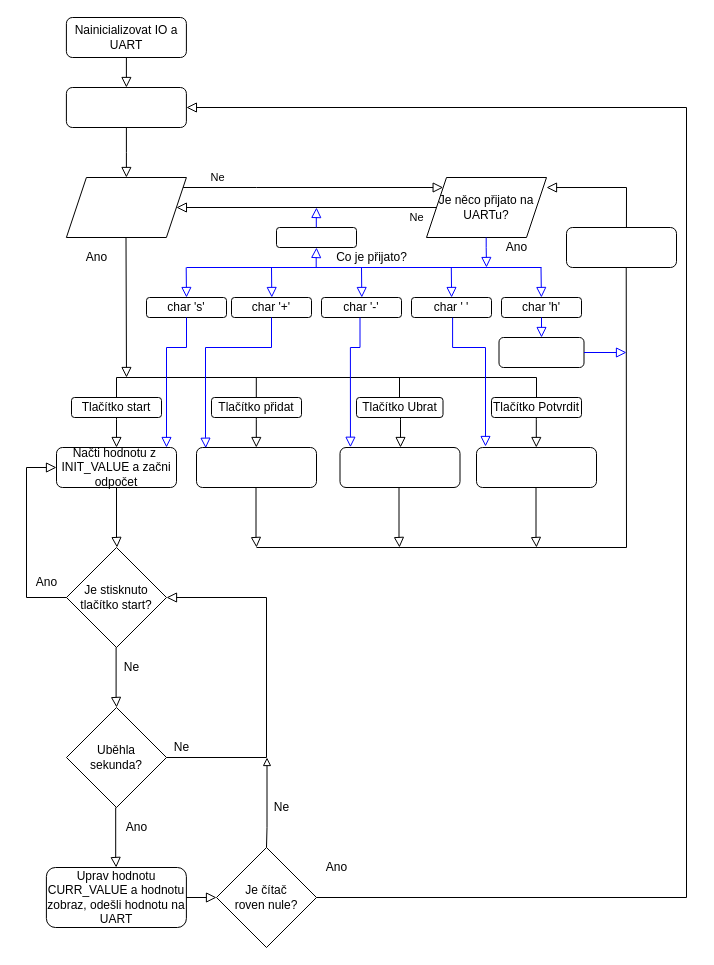
The diagram is 714 pixels wide and 965 high, and some of its shapes have lost their labels. Each missing label, with the centre of its shape:
Je stisknuté nějaké tlačítko?: the point at 125,207
něco jiného: the point at 316,237
Odešli novou hodnotu na UART: the point at 621,247
Provést procedůru při startu: the point at 125,107
Sniž hodnotu v CURR_VALUE: the point at 399,467
Ulož hodnotu z CURR_VALUE do INIT_VALUE: the point at 536,467
Zobraz napovedu: the point at 541,352
Zvyš hodnotu v CURR_VALUE: the point at 256,467
